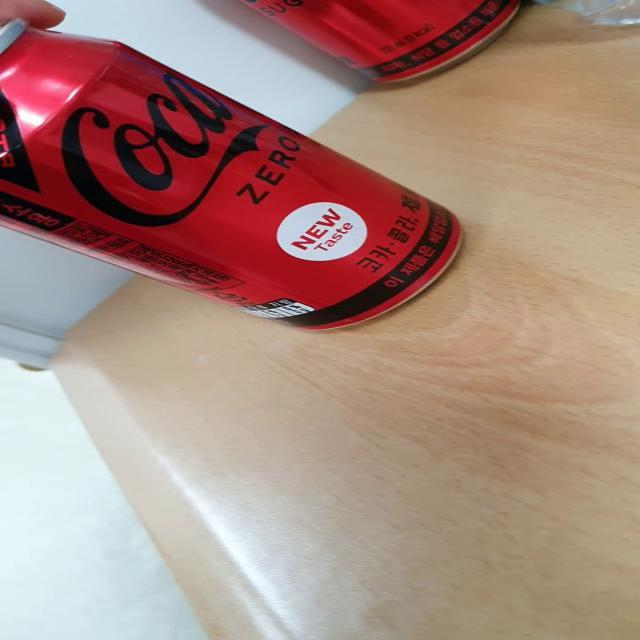coca-cola: (2, 15, 482, 349)
